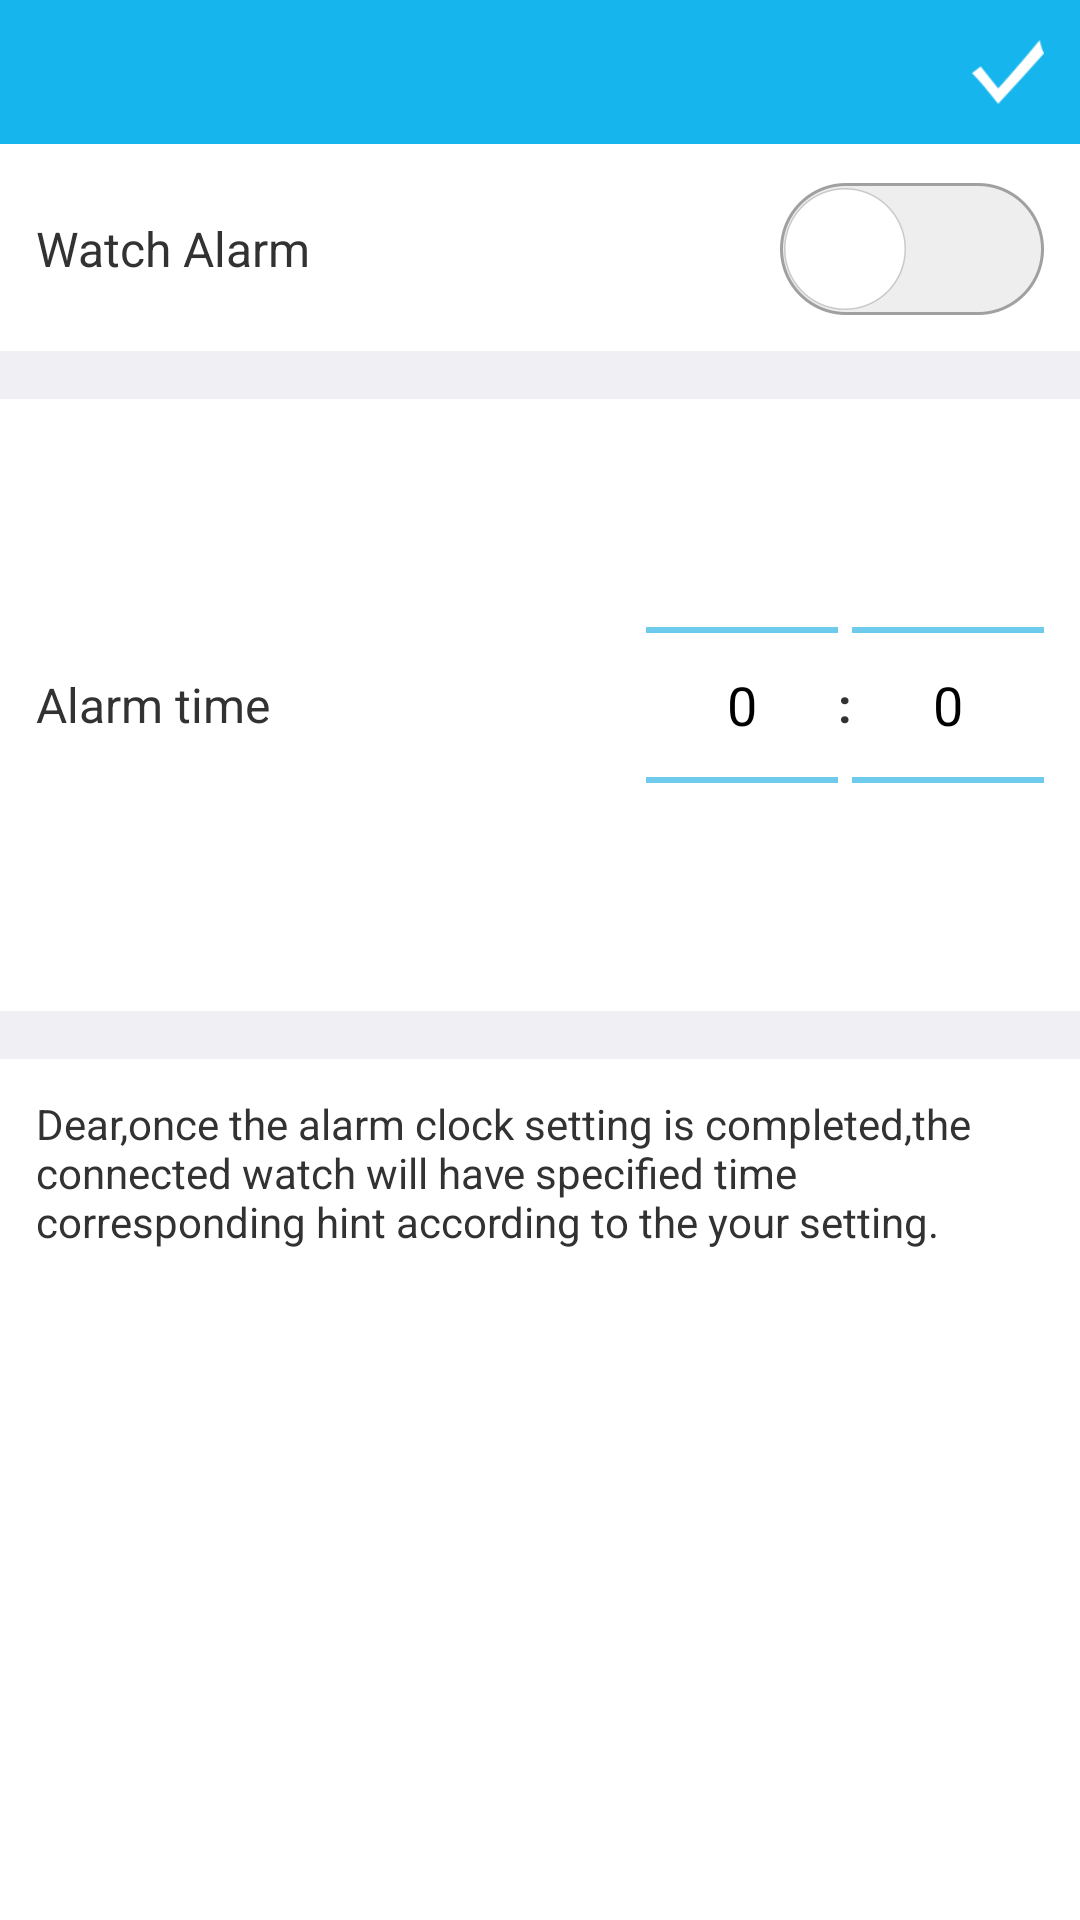

Where icons sit on this 1080 × 1920 app screen, as (x1, y1, x2, y2):
setting done: (972, 40, 1044, 104)
